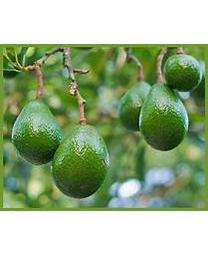avocado: (51, 122, 110, 200), (138, 81, 189, 152), (11, 99, 65, 166), (163, 54, 203, 93)
